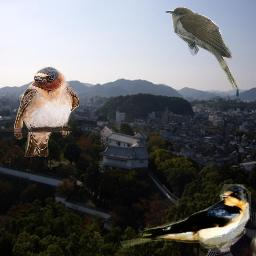Cuckoo: (165, 7, 238, 90)
Swallow: (120, 184, 251, 252), (14, 66, 79, 157)
